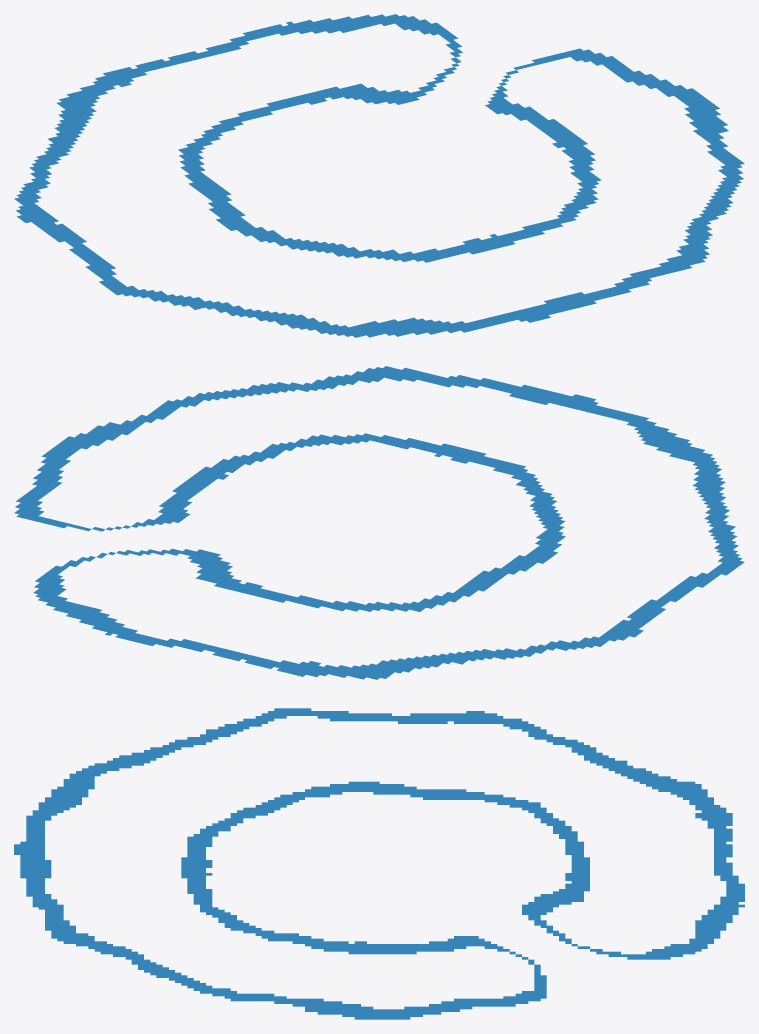
The model's file is Isl-atoll2-PlaceForWaterObjects.fbx.
3 views of the same model, one above another, from view 1: azimuth 30°, elevation 25°; view 2: azimuth 150°, elevation 25°; view 3: azimuth 270°, elevation 25° (orthographic).
Visible parts, largest first — view 1: Isl-atoll2-PlaceForWaterObjects; view 2: Isl-atoll2-PlaceForWaterObjects; view 3: Isl-atoll2-PlaceForWaterObjects.
Part boxes in pixels (x1,y1,x2,y2): Isl-atoll2-PlaceForWaterObjects: (14, 14, 744, 337); Isl-atoll2-PlaceForWaterObjects: (14, 366, 744, 679); Isl-atoll2-PlaceForWaterObjects: (14, 708, 744, 1019).
Bounding box in the file's own units: 119 × 0 × 118.
